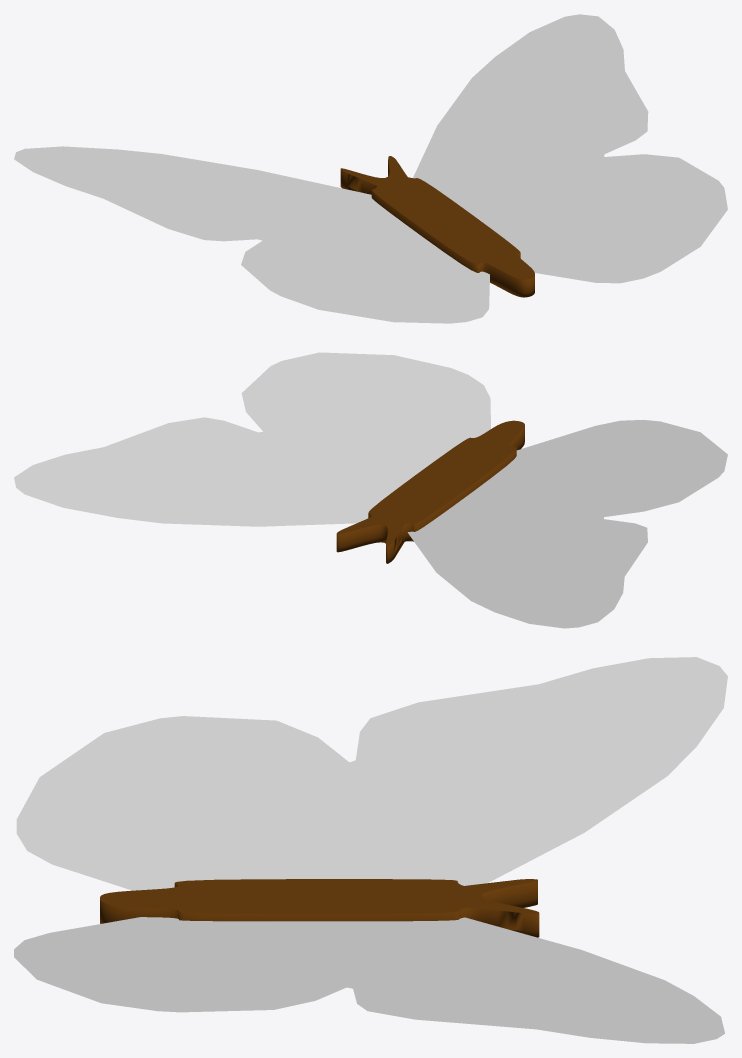
3 renders of one model, top to bottom at view 1: azimuth 30°, elevation 25°; view 2: azimuth 150°, elevation 25°; view 3: azimuth 270°, elevation 25°, orthographic. The views are drawn at different scales.
Parts seen in each view (by area): view 1: RWing.002, LWing.002, bfbody.002; view 2: RWing.002, LWing.002, bfbody.002; view 3: LWing.002, RWing.002, bfbody.002.
Boxes of the visible parts, x1,y1,x2,y2 form: RWing.002: [413, 14, 727, 283]; LWing.002: [14, 146, 489, 323]; bfbody.002: [340, 156, 534, 297]; RWing.002: [14, 352, 490, 526]; LWing.002: [407, 420, 727, 628]; bfbody.002: [336, 420, 524, 563]; LWing.002: [16, 657, 727, 890]; RWing.002: [14, 917, 724, 1043]; bfbody.002: [100, 879, 539, 937].
Size of the model in its own units: 2.13 by 0.1791 by 1.66.
